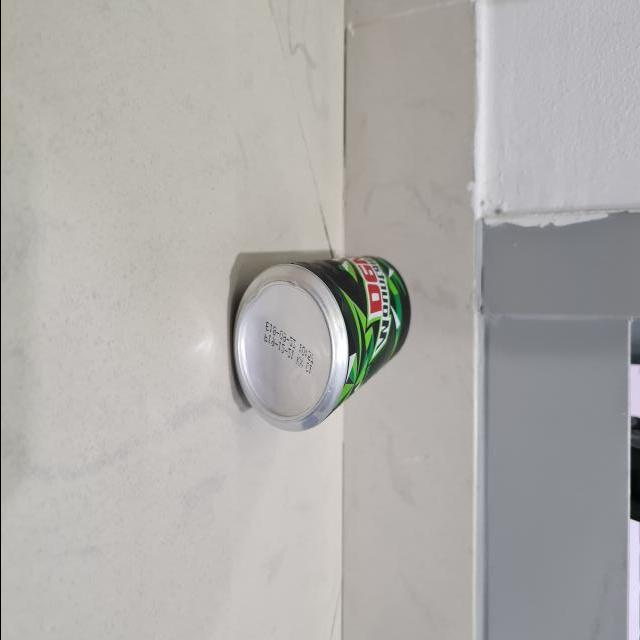can: (232, 254, 407, 436)
